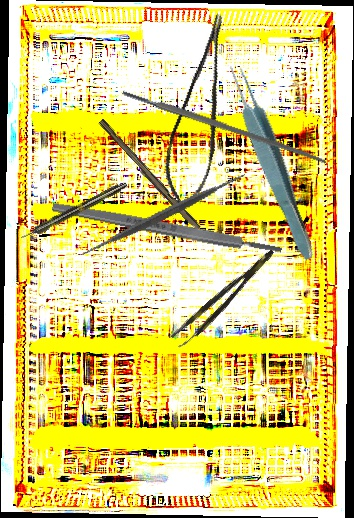Handpiece: (19, 179, 129, 243)
Micro Scissor: (149, 11, 259, 213)
Scalpel Handle: (121, 87, 328, 166), (51, 199, 283, 258), (95, 118, 203, 233)
Spatula Surgical: (71, 122, 255, 307)
Tissue Forceps: (222, 59, 322, 264), (168, 247, 283, 351)
